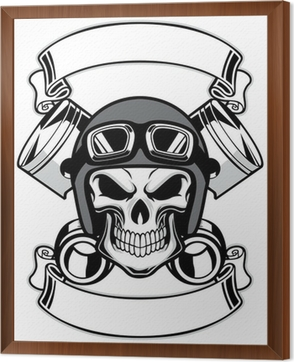with_helmet: (71, 95, 208, 241)
